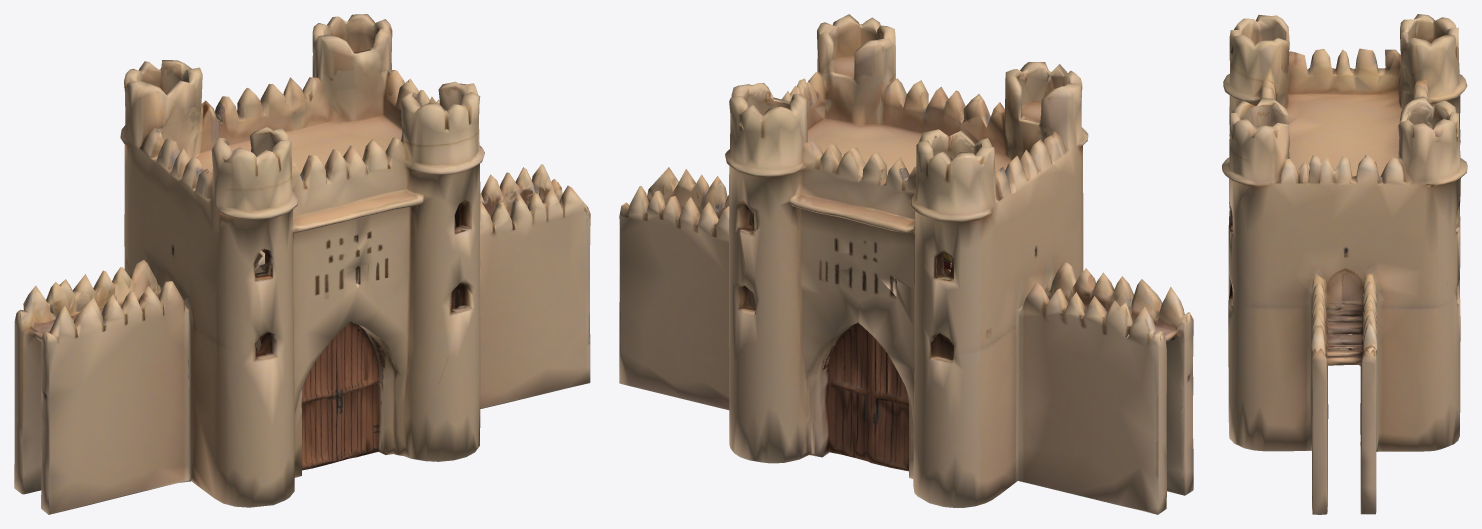
File: fort_m_desert_gate.glb
3 views of the same model, side by side, from view 1: azimuth 30°, elevation 25°; view 2: azimuth 150°, elevation 25°; view 3: azimuth 270°, elevation 25° (orthographic). The views are drawn at different scales.
Visible parts, largest first — view 1: fort_m_desert_gate; view 2: fort_m_desert_gate; view 3: fort_m_desert_gate.
Boxes of the visible parts, <box> form: fort_m_desert_gate: <box>14,14,590,514</box>; fort_m_desert_gate: <box>619,14,1193,514</box>; fort_m_desert_gate: <box>1222,14,1467,514</box>.
Bounding box in the file's own units: 2 × 1.25 × 0.8587.
1 material, 1 textured.
